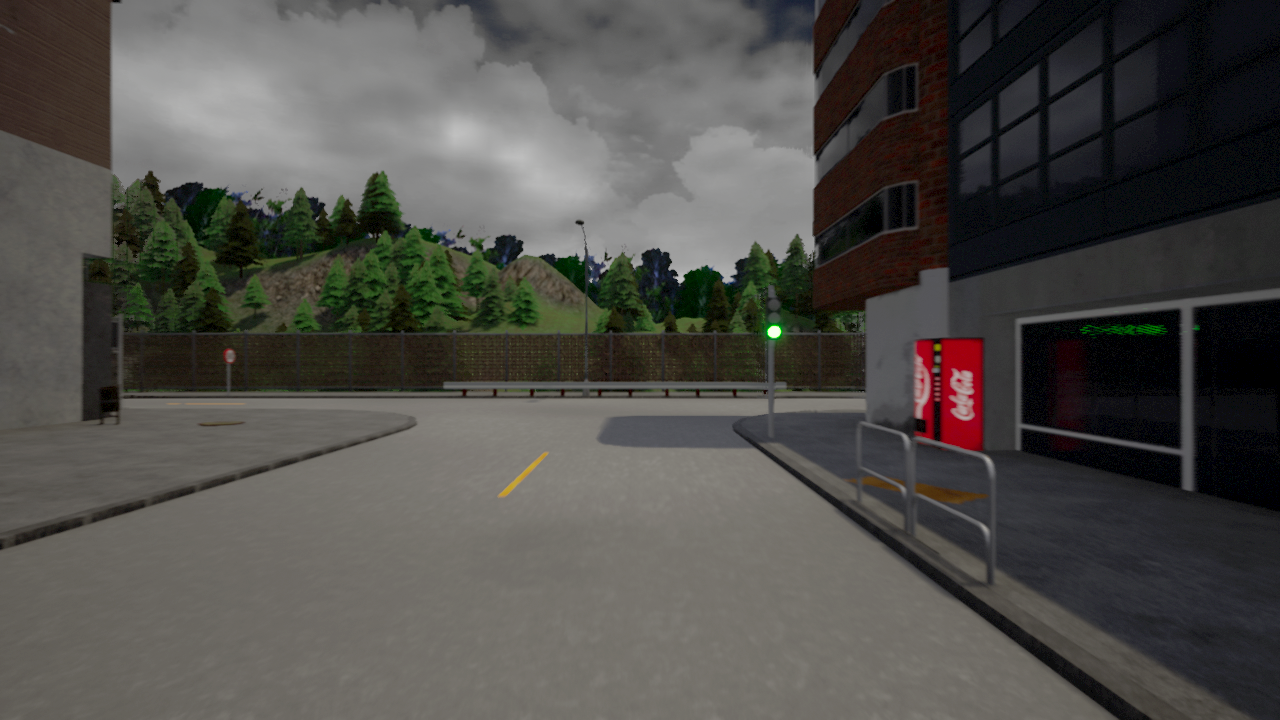green: (766, 296, 782, 340)
